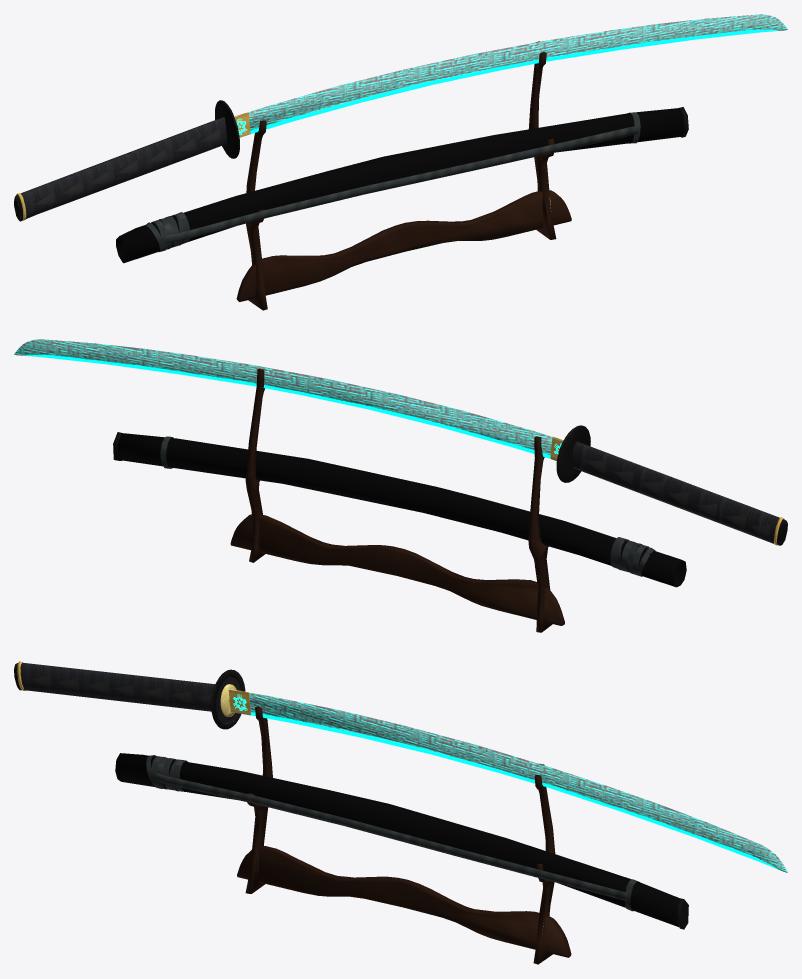
File: katana.glb
3 renders of one model, top to bottom at view 1: azimuth 30°, elevation 25°; view 2: azimuth 150°, elevation 25°; view 3: azimuth 330°, elevation 25°, orthographic.
Visible parts, largest first — view 1: Object_4; view 2: Object_4; view 3: Object_4.
Part boxes in pixels (x1,y1,x2,y2): Object_4: [14, 14, 787, 310]; Object_4: [14, 339, 787, 632]; Object_4: [14, 661, 787, 964].
Bounding box in the file's own units: 5.93 × 1.53 × 0.374.
Materials: 1 (1 with a texture image).
